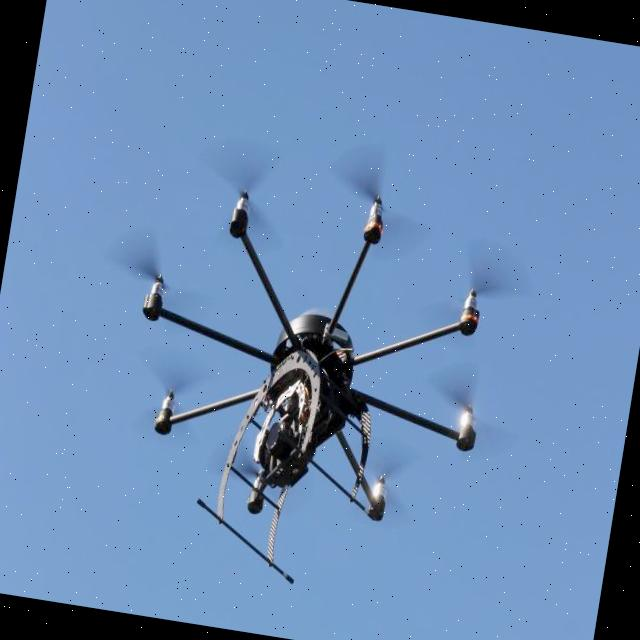drone: (77, 123, 553, 568)
